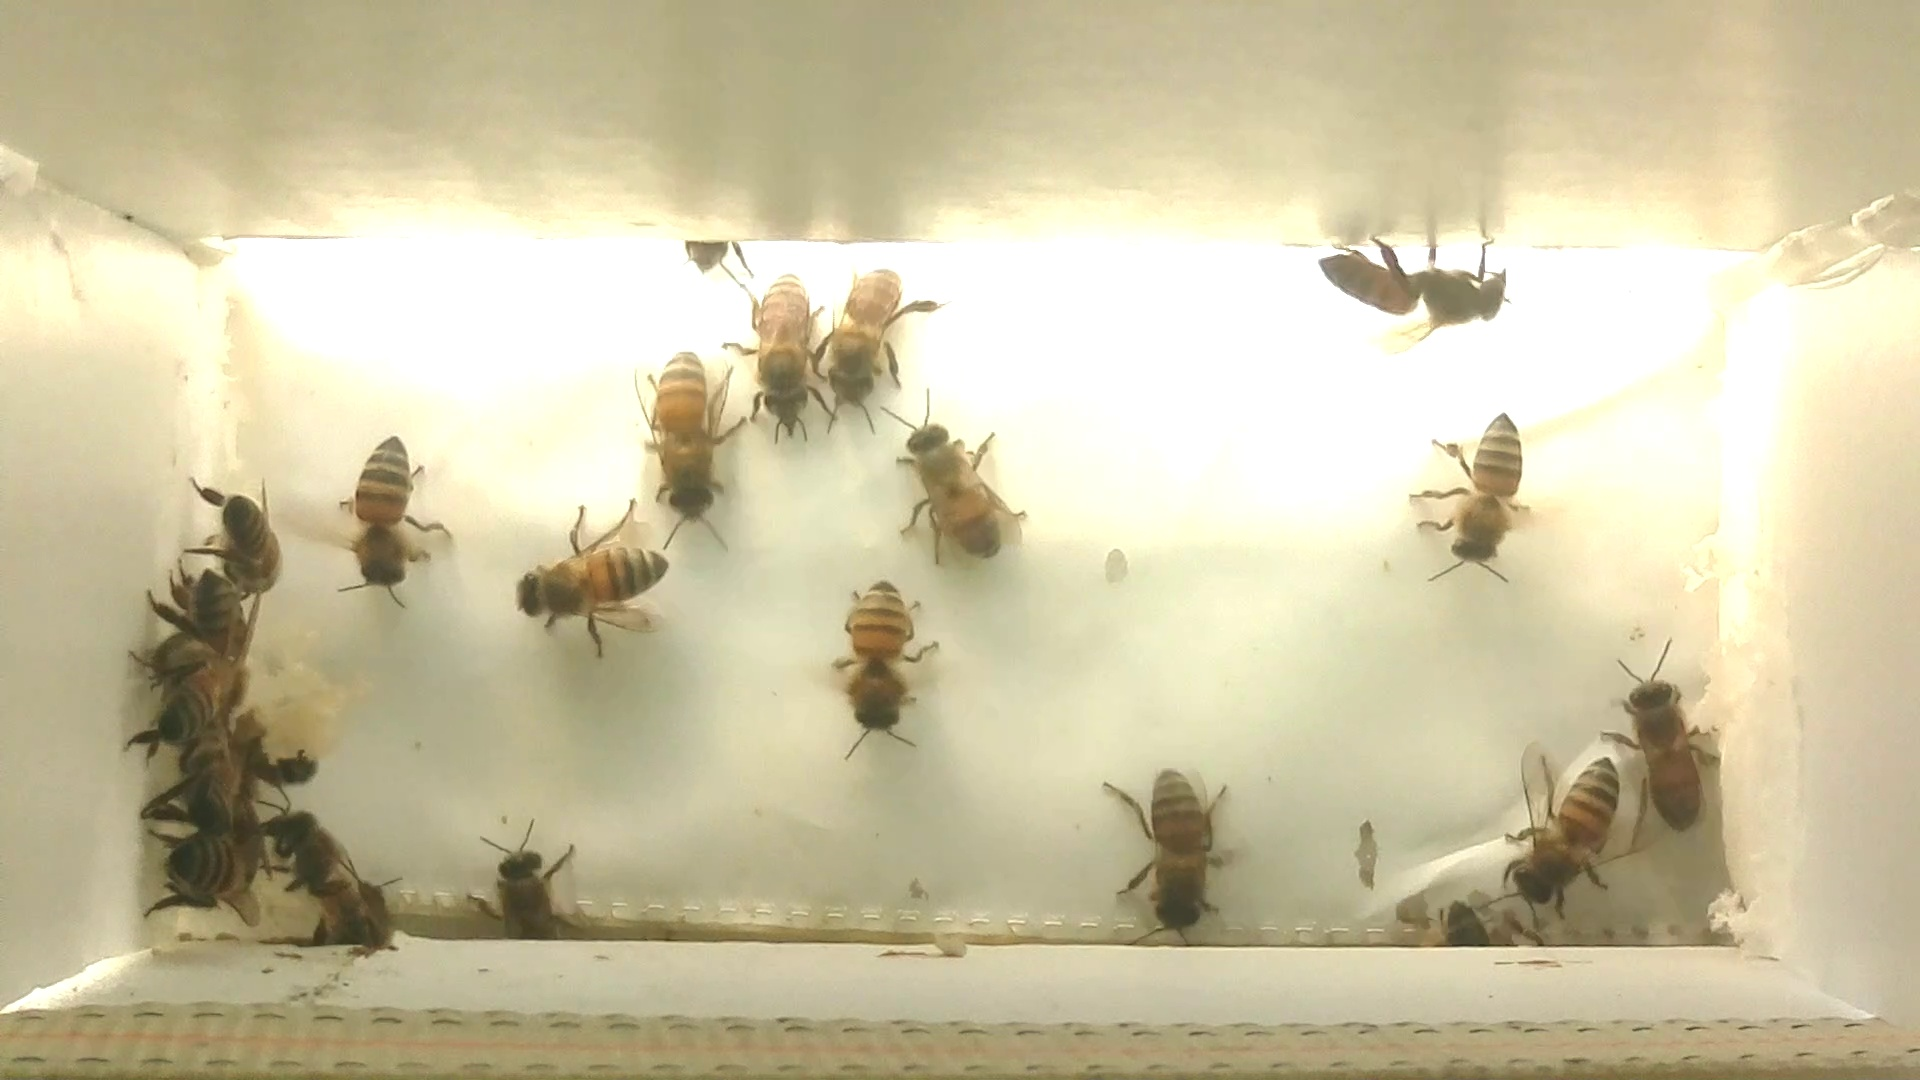bee: (291, 405, 462, 632), (1304, 214, 1553, 364), (1081, 749, 1244, 951), (876, 396, 1048, 582), (1495, 725, 1648, 931), (624, 339, 765, 559), (1404, 400, 1559, 593), (1600, 645, 1745, 837), (810, 560, 940, 765), (520, 498, 679, 655), (816, 258, 944, 448), (272, 808, 431, 957), (709, 268, 839, 444), (458, 824, 600, 944), (138, 811, 278, 928), (133, 638, 258, 754), (181, 477, 295, 604), (148, 731, 276, 836), (154, 560, 264, 676), (661, 228, 767, 295)
